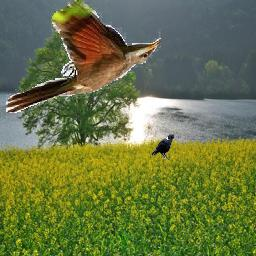Crow: (152, 134, 175, 160)
Cuckoo: (7, 0, 162, 113)
